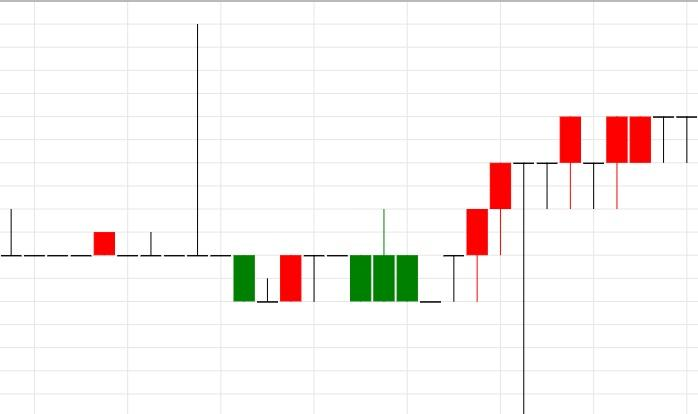morning_star_rise: (94, 24, 302, 303)
